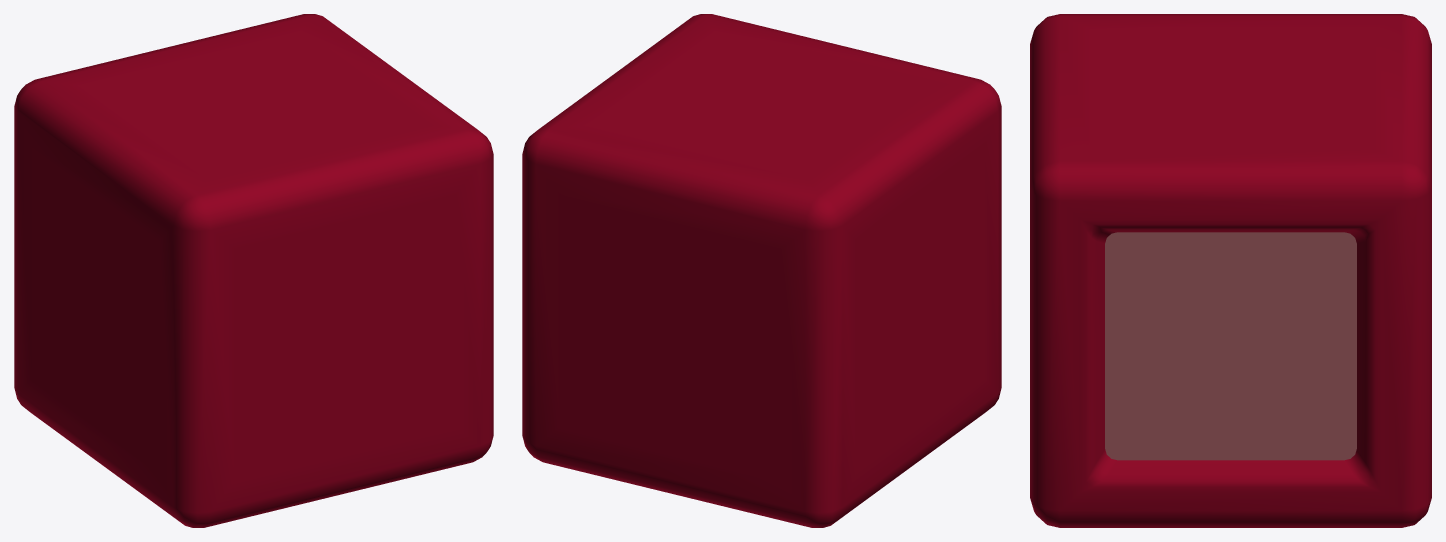
Rendered from a1_color_block.fbx.
3 renders of one model, left to right at view 1: azimuth 30°, elevation 25°; view 2: azimuth 150°, elevation 25°; view 3: azimuth 270°, elevation 25°, orthographic. The views are drawn at different scales.
Visible parts, largest first — view 1: color_block; view 2: color_block; view 3: color_block.
Boxes of the visible parts, box(x1,y1,x2,y2) form: color_block: box(14, 14, 493, 527); color_block: box(522, 14, 1001, 527); color_block: box(1030, 14, 1431, 527).
Bounding box in the file's own units: 2 × 2 × 2.
